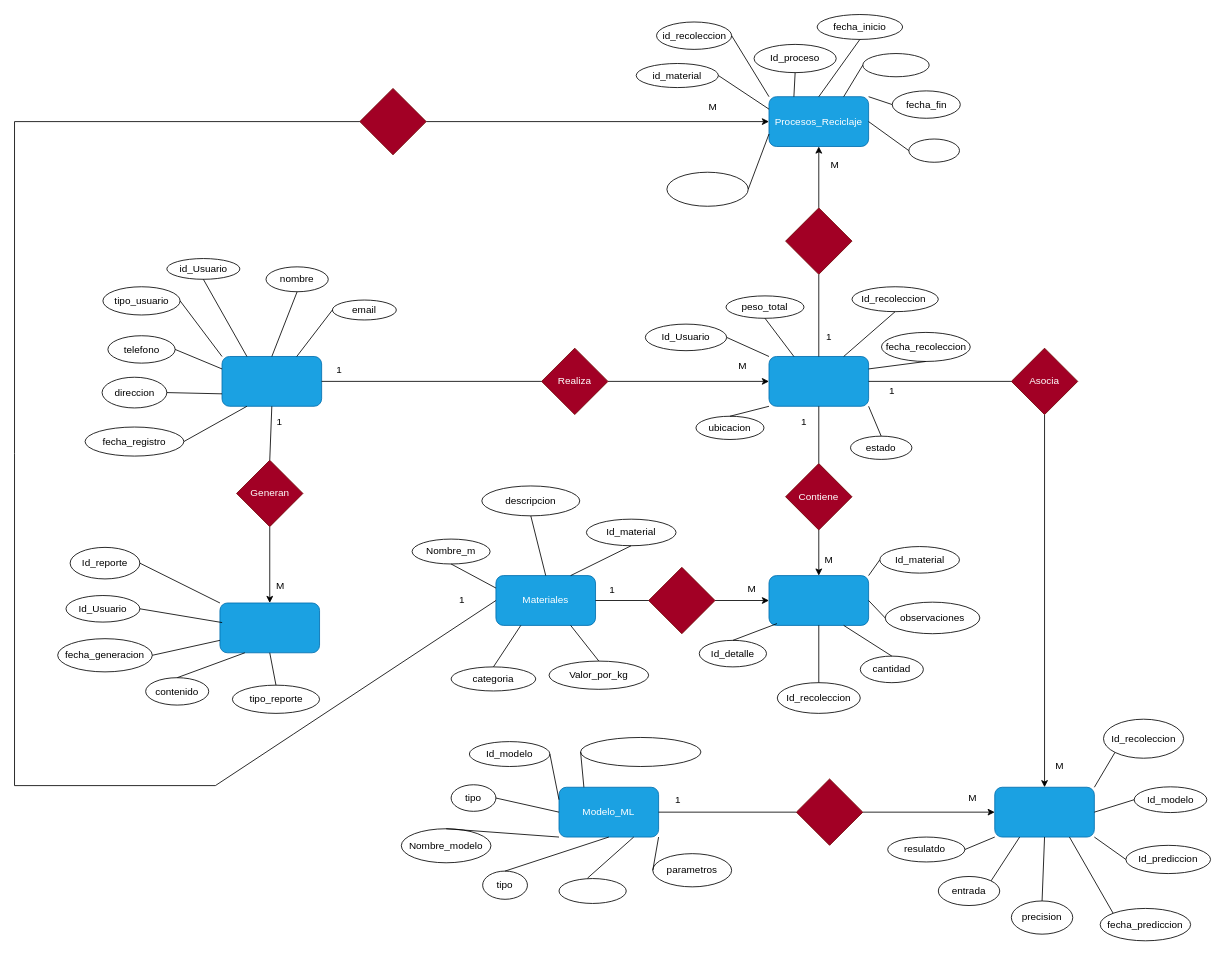
Some shapes in this 1225 by 955 pixel diagram are drawn without their labels. The box of each missing label's shape, as (x1, y1, x2, y2) in pixels:
costo: (908, 138, 959, 162)
Detalle_Recoleccion: (768, 575, 869, 625)
Especifica: (648, 566, 715, 634)
fecha_entrenamiento: (580, 737, 701, 767)
Genera: (796, 778, 863, 845)
Predicciones: (994, 786, 1094, 837)
Procesa: (785, 207, 852, 274)
Recolecciones: (768, 356, 869, 406)
Reportes: (219, 602, 320, 653)
resultado: (862, 53, 929, 77)
ruta_archivo: (558, 878, 626, 903)
Se procesa: (359, 88, 426, 155)
tipo_proceso: (666, 171, 748, 206)
Usuarios: (221, 356, 322, 406)
